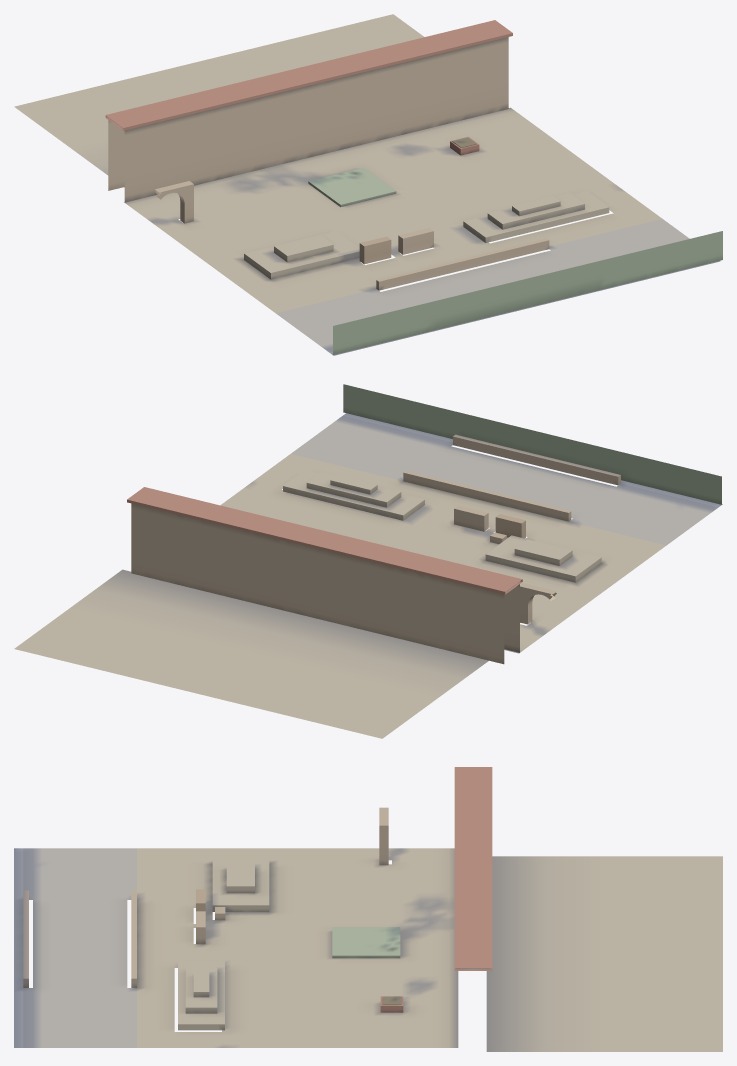
3 views of the same model, one above another, from view 1: azimuth 30°, elevation 25°; view 2: azimuth 150°, elevation 25°; view 3: azimuth 270°, elevation 25° (orthographic). The views are drawn at different scales.
Parts seen in each view (by area): view 1: t; view 2: t; view 3: t.
Part boxes in pixels (box(x1,y1,x2,y2)): t: box(14, 14, 722, 355); t: box(14, 384, 722, 738); t: box(14, 767, 722, 1051).
Size of the model in its own units: 51.27 by 9.35 by 75.
